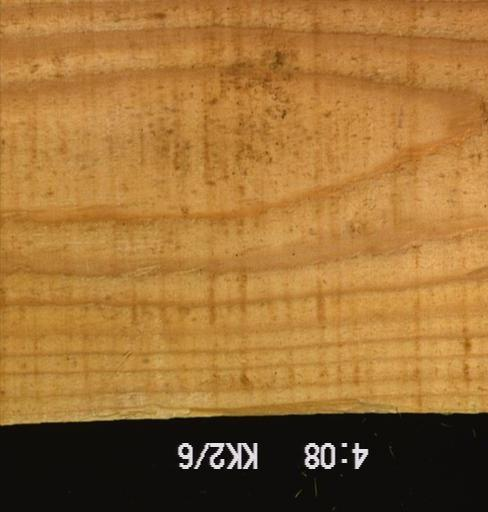wave: (154, 403, 447, 418)
